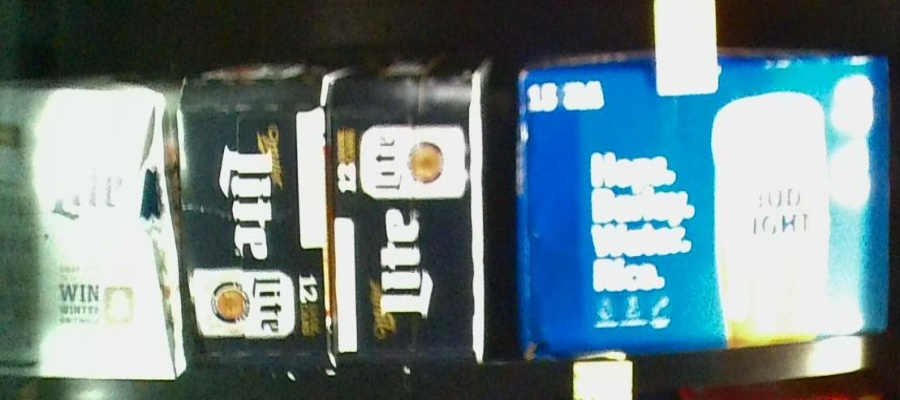bottle: (520, 61, 897, 342), (1, 81, 179, 379), (329, 72, 500, 367), (179, 72, 329, 367)
